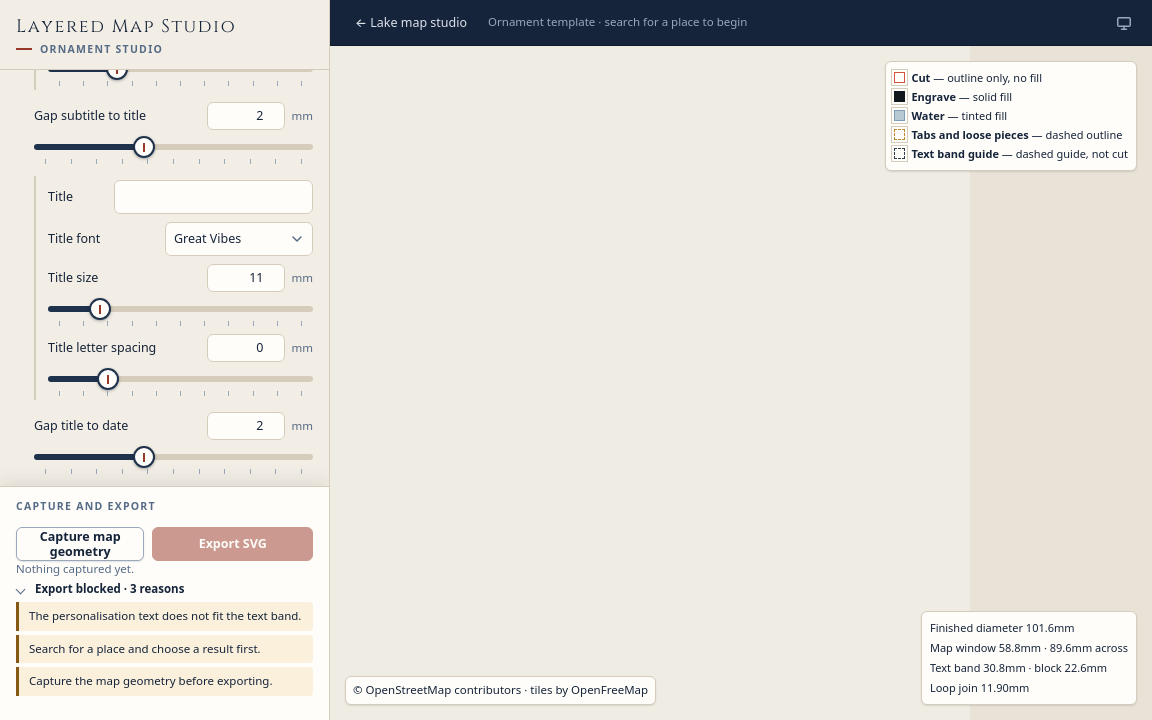
accessibility of the ornament controls › roles are not carried by colour alone › names the severity of every finding in words
(page scrolled)
// Force a finding: text far too large for the band is a blocking geometry issue.
Replace the text in the number field labelled "Title size" with "60" at (246,278), box [208,264,286,292]
(page scrolled)
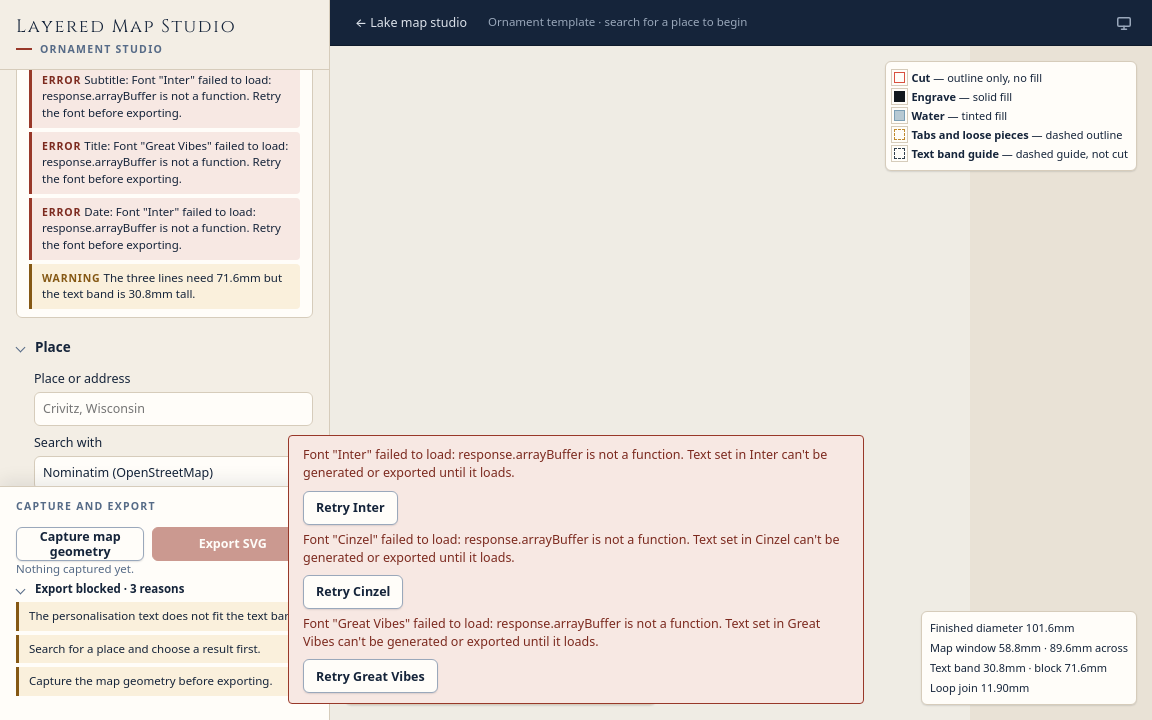
Expected: the 1st text with class "ornament-issue-kind" reads "Error", [42,73,81,87]
Expected: the 2nd text with class "ornament-issue-kind" reads "Error", [42,139,81,153]
Expected: the 3rd text with class "ornament-issue-kind" reads "Error", [42,205,81,219]
